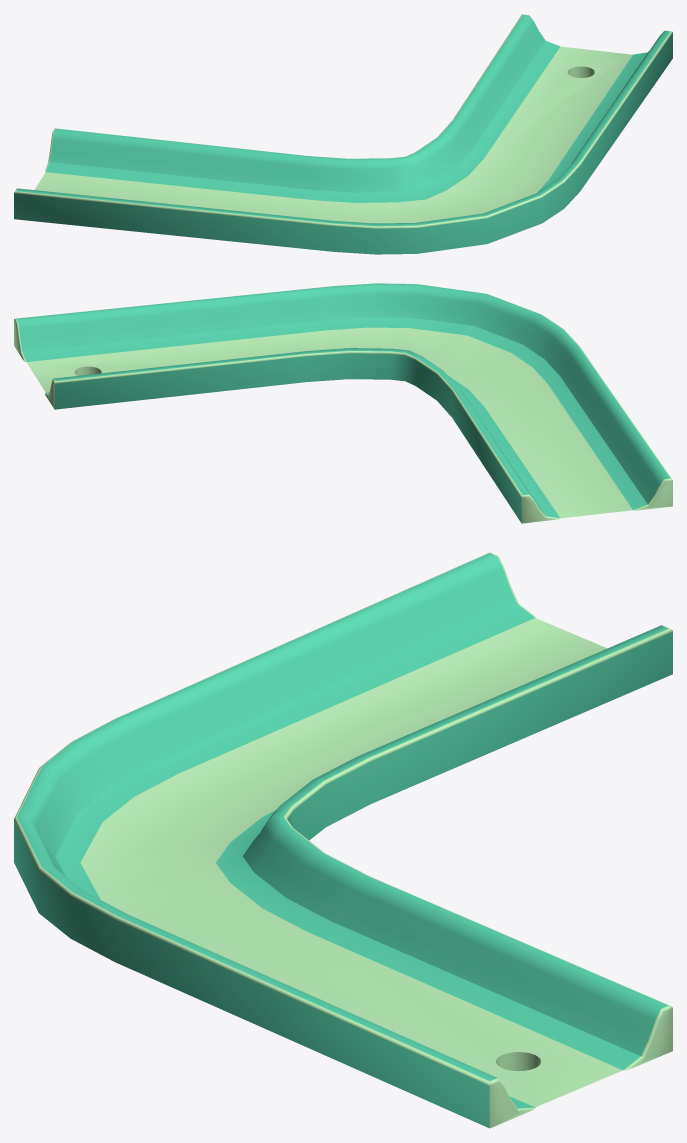
Rendered from Ground_06.fbx.
The picture shows the model from 3 angles, top to bottom: view 1: azimuth 30°, elevation 25°; view 2: azimuth 150°, elevation 25°; view 3: azimuth 270°, elevation 25°; orthographic projection. The views are drawn at different scales.
Visible parts, largest first — view 1: Ground_06; view 2: Ground_06; view 3: Ground_06.
Boxes of the visible parts, x1=… form: Ground_06: x1=14, y1=14, x2=672, y2=254; Ground_06: x1=14, y1=283, x2=672, y2=523; Ground_06: x1=14, y1=552, x2=672, y2=1128.
Bounding box in the file's own units: 706 × 44.59 × 370.
